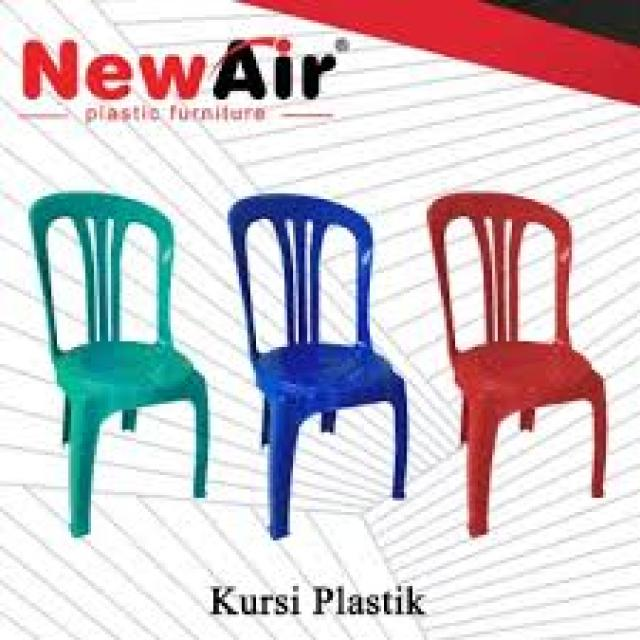chair: (414, 180, 623, 542), (21, 181, 220, 560), (224, 192, 416, 551)
